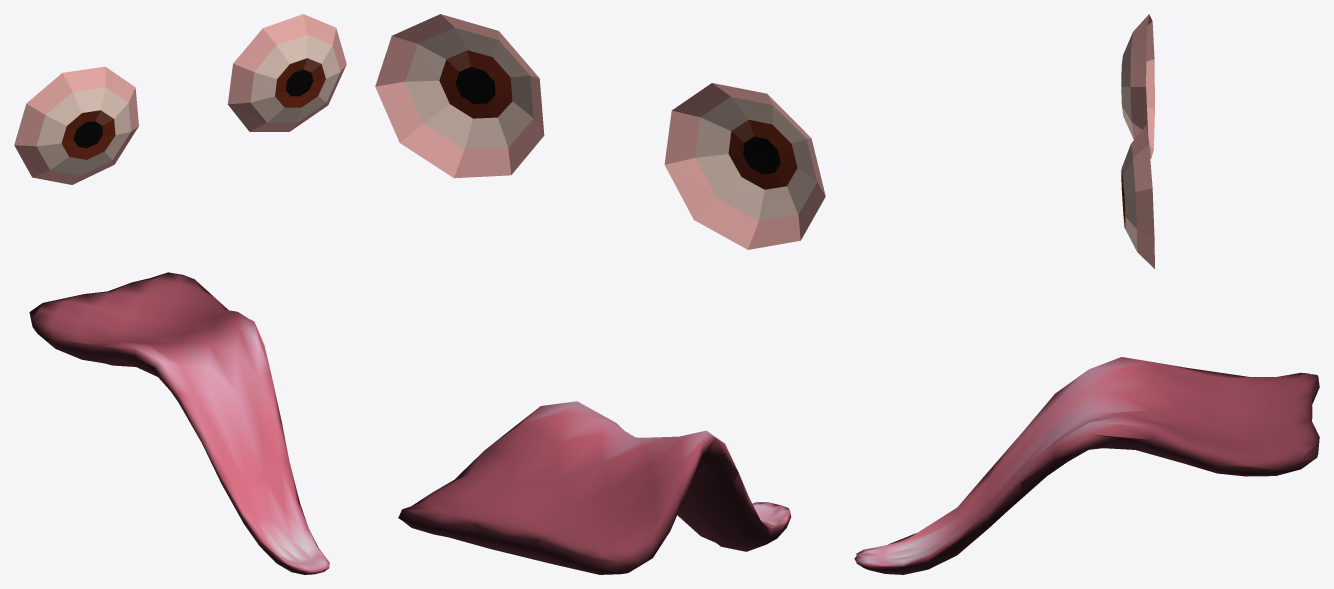
File: redEyesFreaky.glb
The picture shows the model from 3 angles, left to right: view 1: azimuth 30°, elevation 25°; view 2: azimuth 150°, elevation 25°; view 3: azimuth 270°, elevation 25°; orthographic projection. The views are drawn at different scales.
Visible parts, largest first — view 1: eyesRed; view 2: eyesRed; view 3: eyesRed.
Boxes of the visible parts, x1=… form: eyesRed: x1=14, y1=14, x2=346, y2=574; eyesRed: x1=375, y1=14, x2=825, y2=574; eyesRed: x1=854, y1=14, x2=1319, y2=574.
Size of the model in its own units: 0.1488 by 0.1902 by 0.1631.
